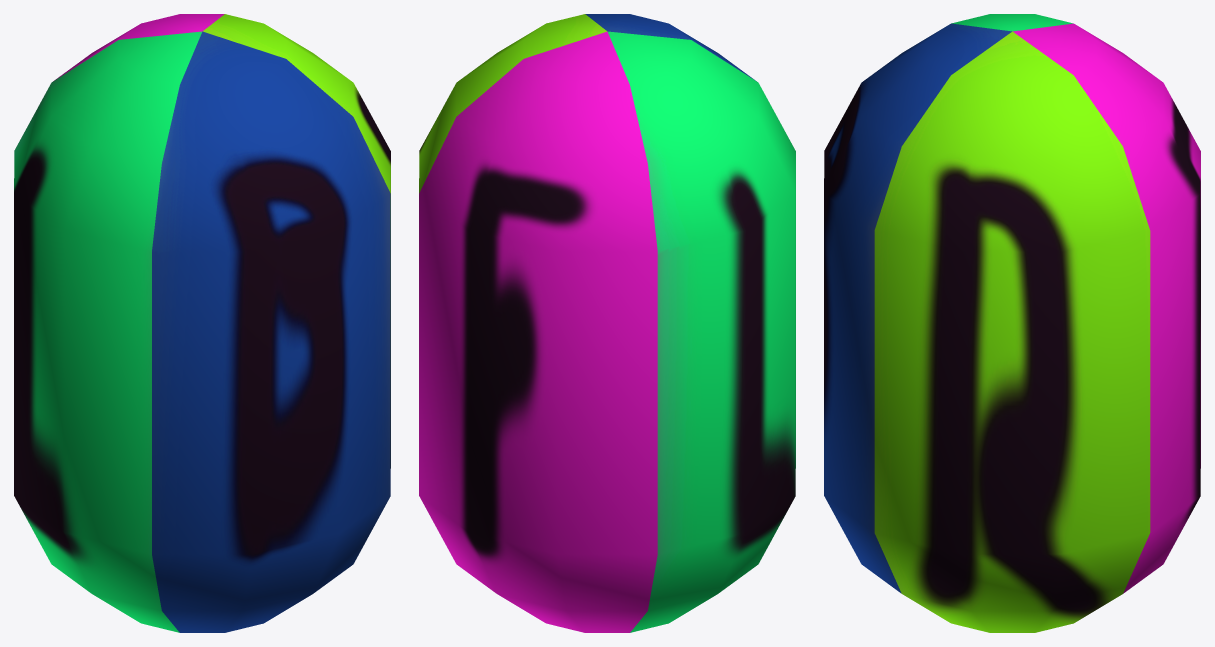
Rendered from roubal2.glb.
The picture shows the model from 3 angles, left to right: view 1: azimuth 30°, elevation 25°; view 2: azimuth 150°, elevation 25°; view 3: azimuth 270°, elevation 25°; orthographic projection.
Parts seen in each view (by area): view 1: Sphene; view 2: Sphene; view 3: Sphene.
Part boxes in pixels (left/top/right/bottom): Sphene: left=14, top=14, right=390, bottom=632; Sphene: left=419, top=14, right=795, bottom=632; Sphene: left=824, top=14, right=1200, bottom=632.
Bounding box in the file's own units: 1.88 × 3.22 × 1.88.
1 material, 1 textured.
